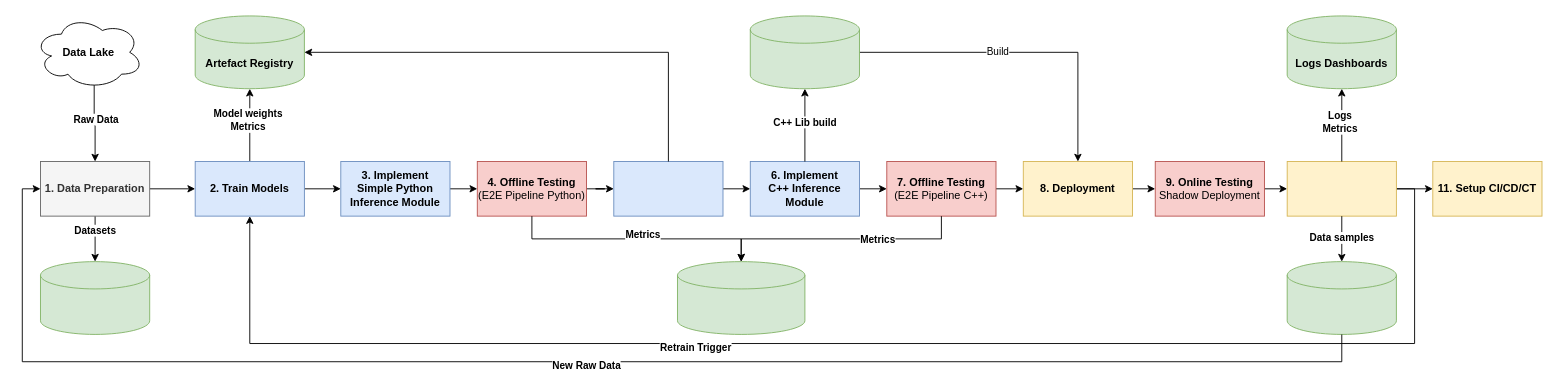
The diagram is 1558 pixels wide and 387 high, and some of its shapes have lost their labels. The box of each missing label's shape, as (x1, y1, x2, y2) in pixels:
10. Monitoring: (1286, 161, 1396, 216)
5. Models Optimisation: (613, 161, 723, 216)
Build Registry: (749, 15, 859, 89)
Dataset Registry: (40, 261, 150, 334)
Leaderboard: (677, 261, 805, 334)
Raw Data Storage: (1286, 261, 1396, 334)
